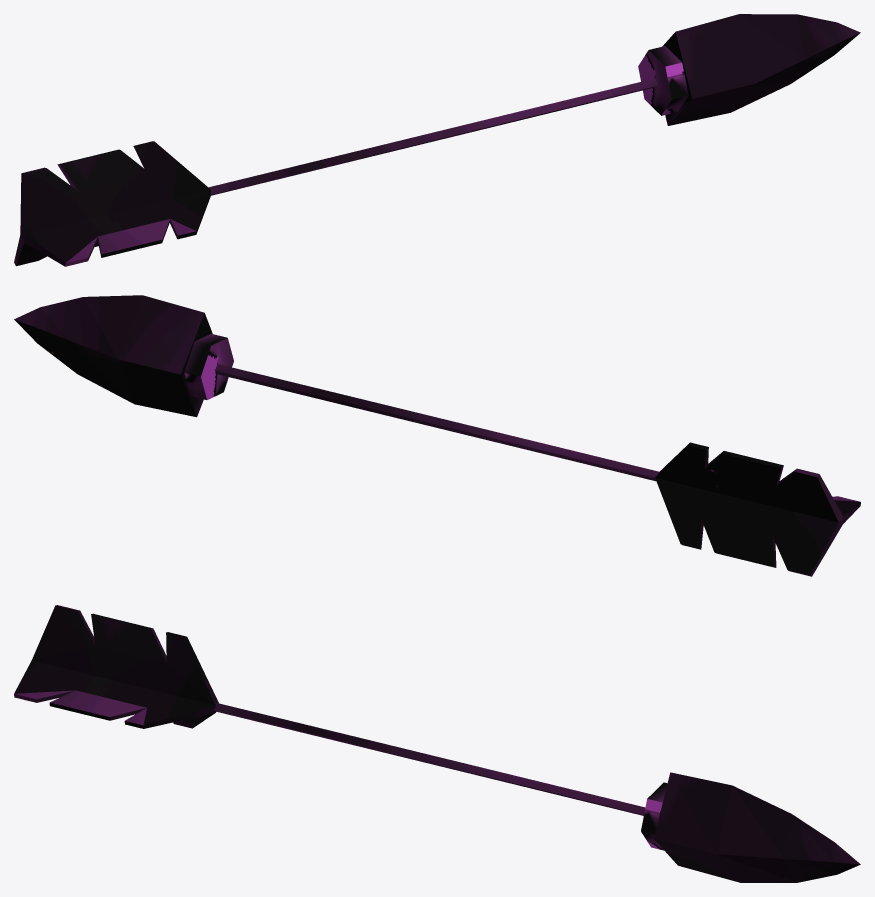
File: NewArrow3.obj
The picture shows the model from 3 angles, top to bottom: view 1: azimuth 30°, elevation 25°; view 2: azimuth 150°, elevation 25°; view 3: azimuth 330°, elevation 25°; orthographic projection.
Parts seen in each view (by area): view 1: Object.1; view 2: Object.1; view 3: Object.1.
Boxes of the visible parts, <box> form: Object.1: <box>14,14,860,266</box>; Object.1: <box>14,295,860,576</box>; Object.1: <box>14,605,860,882</box>.
Size of the model in its own units: 0.5109 by 0.0613 by 0.0545.
